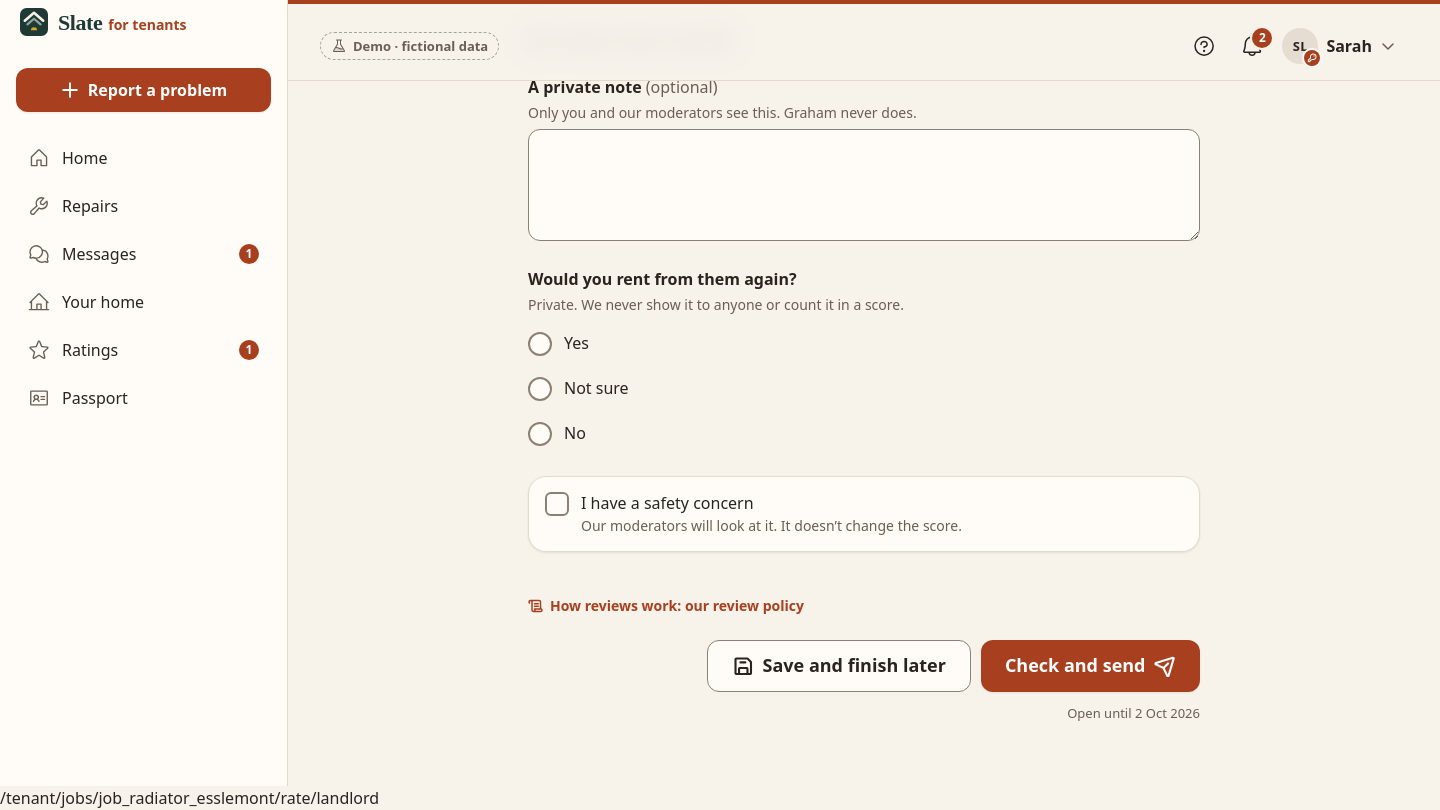
rating the landlord’s handling of a repair › explains the seal, asks the two repair questions and seals the answer
The image size is (1440, 810).
(page scrolled)
Click the button "Check and send" at (1090, 666), box top-left (981, 640), bottom-right (1200, 692)
(page scrolled)
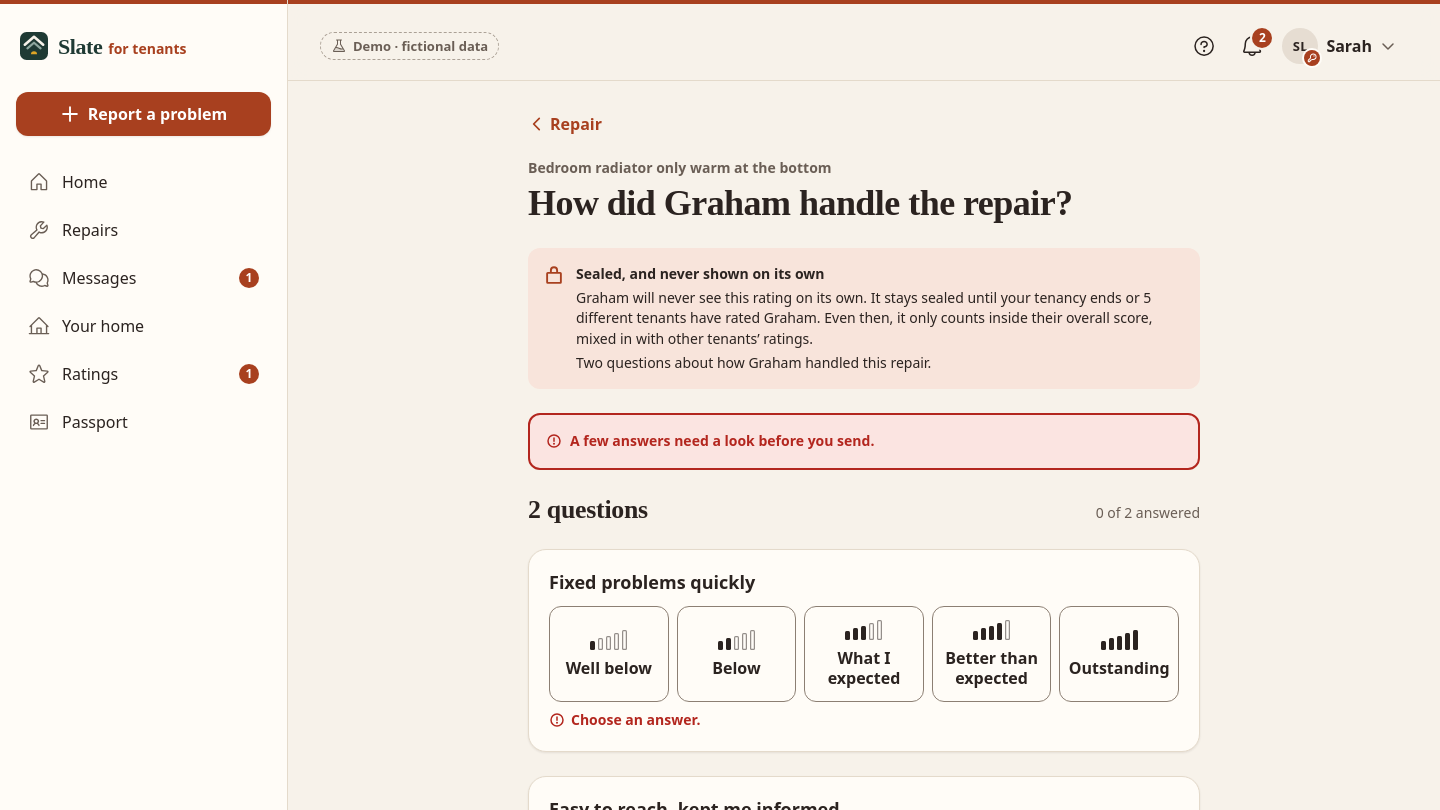
Expected: the message shows "A few answers need a look", top-left (570, 431), bottom-right (874, 450)
Expected: the text "Choose an answer." is shown 2 times
Click the radio button labelled "Better than expected" at (992, 654), box top-left (932, 606), bottom-right (1051, 702)
(page scrolled)
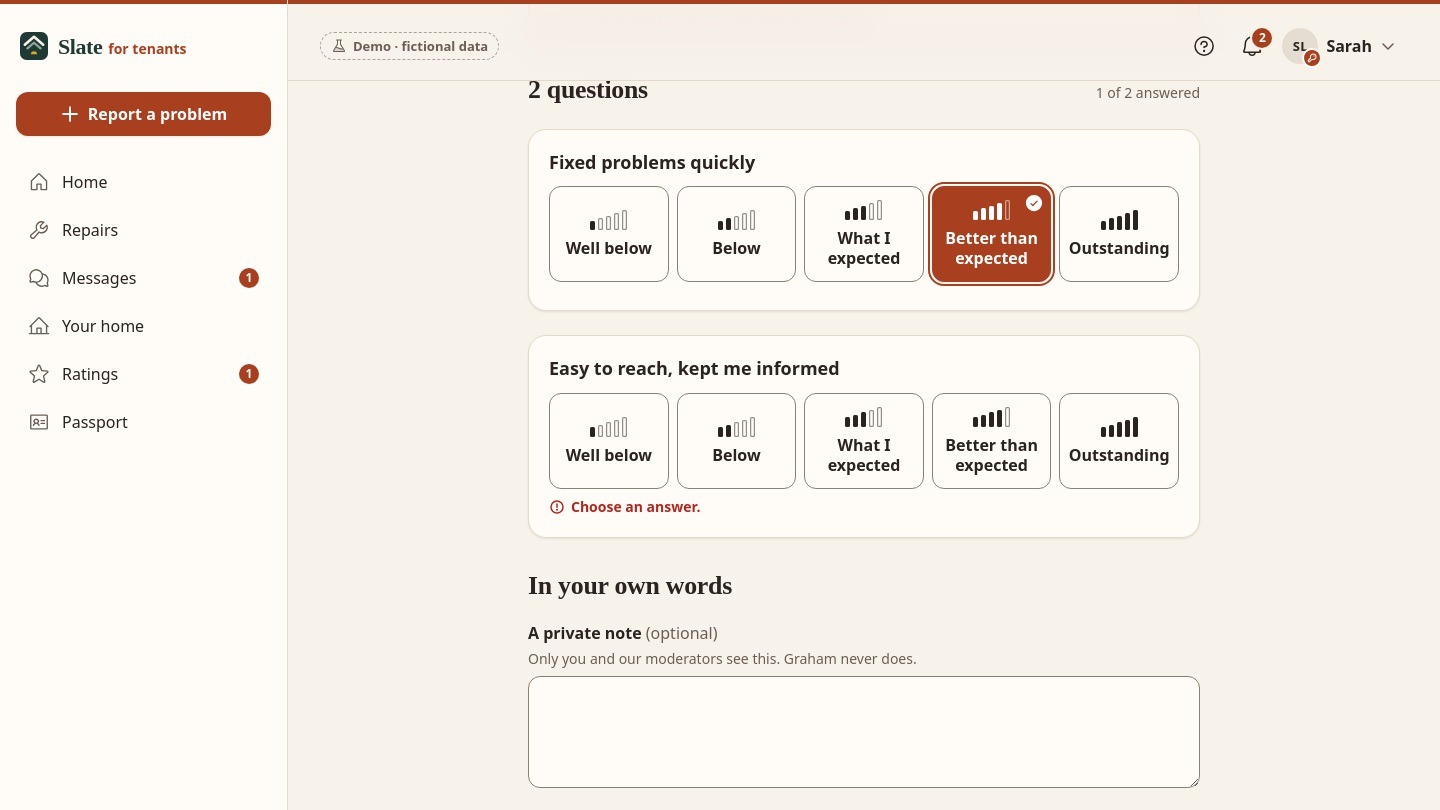
Click the radio button labelled "Outstanding" below "Easy to reach, kept me informed" at (1119, 441), box top-left (1059, 393), bottom-right (1179, 489)
(page scrolled)
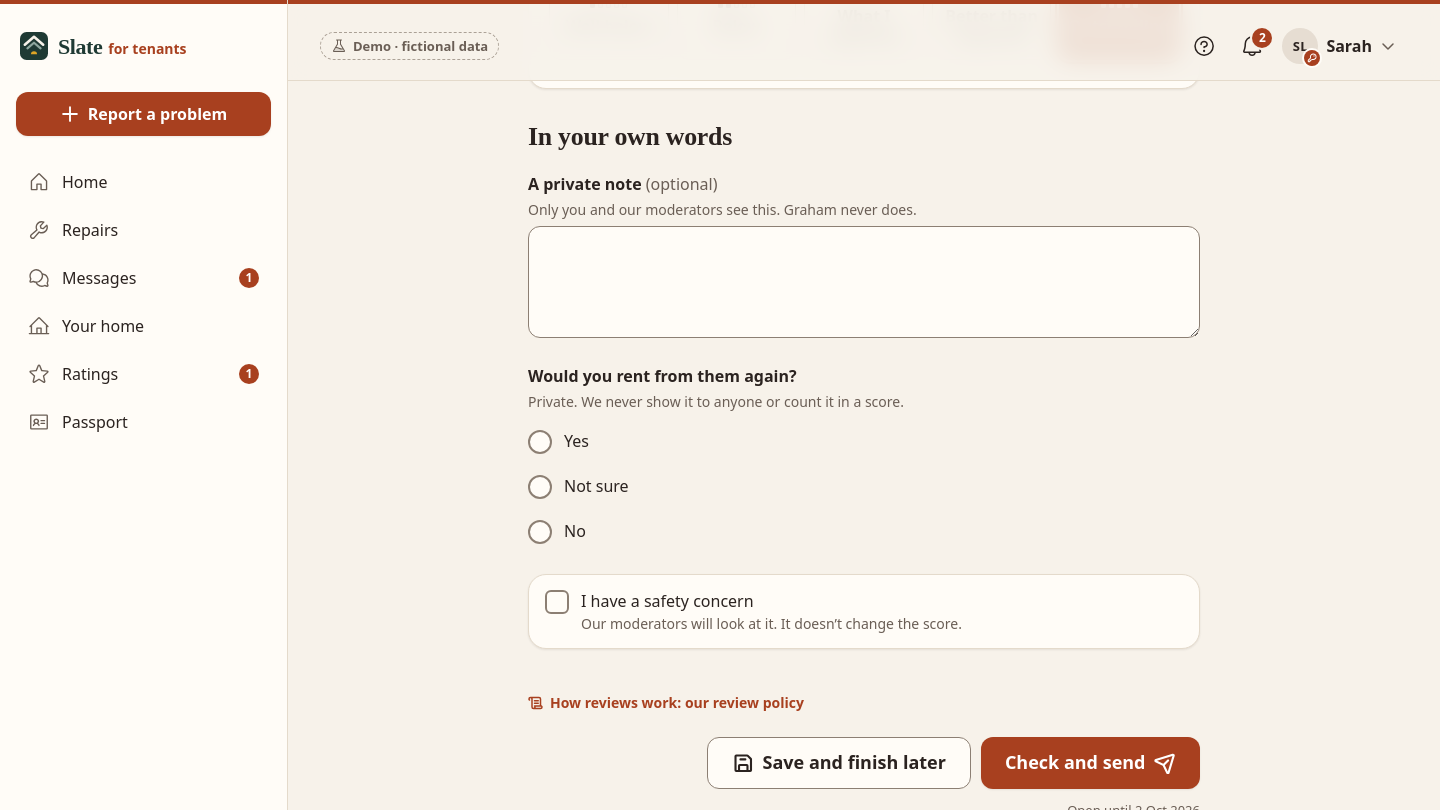
Click the radio button named "Yes" next to "Yes" at (540, 442), box top-left (528, 430), bottom-right (552, 454)
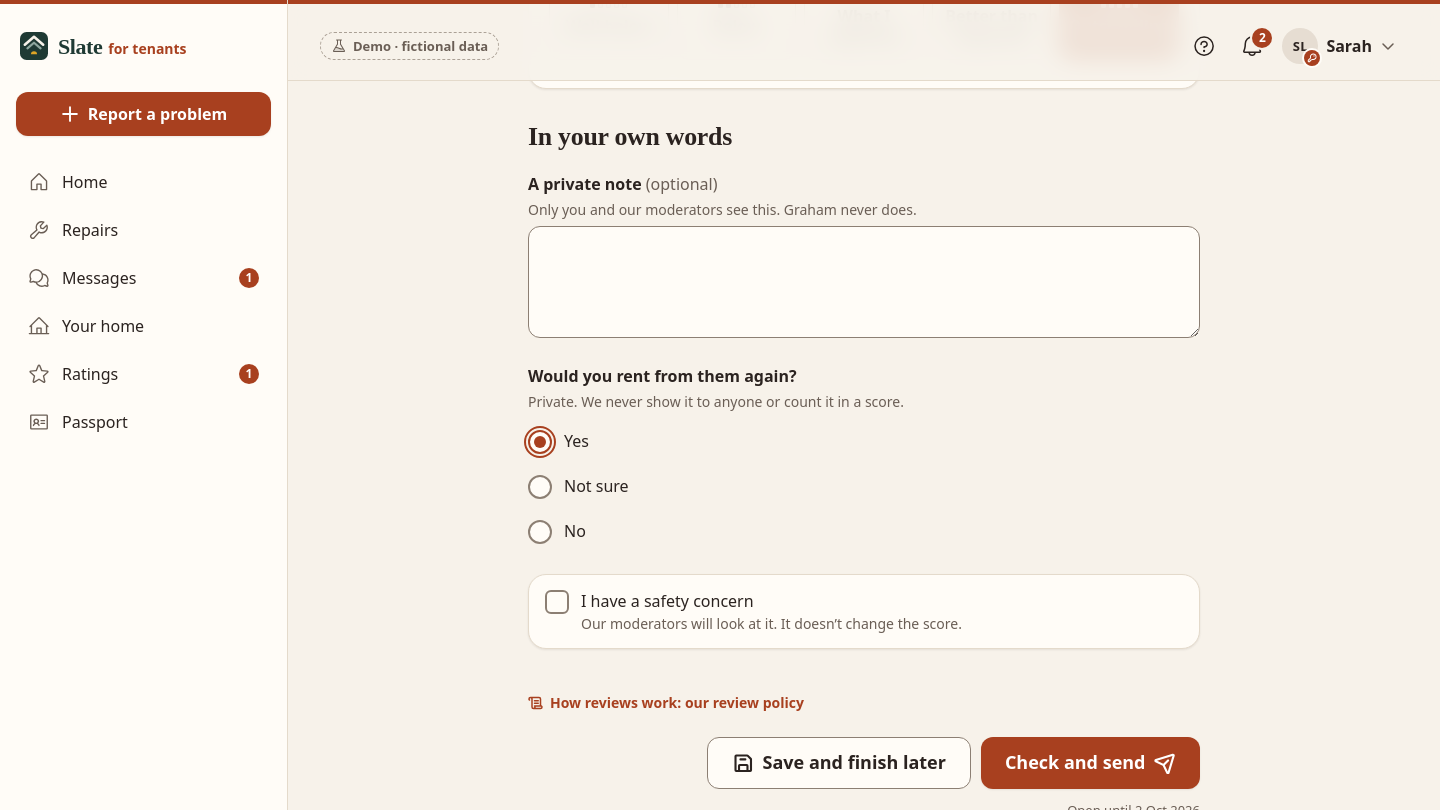
Click the button "Check and send" at (1090, 763), box top-left (981, 737), bottom-right (1200, 789)
(page scrolled)
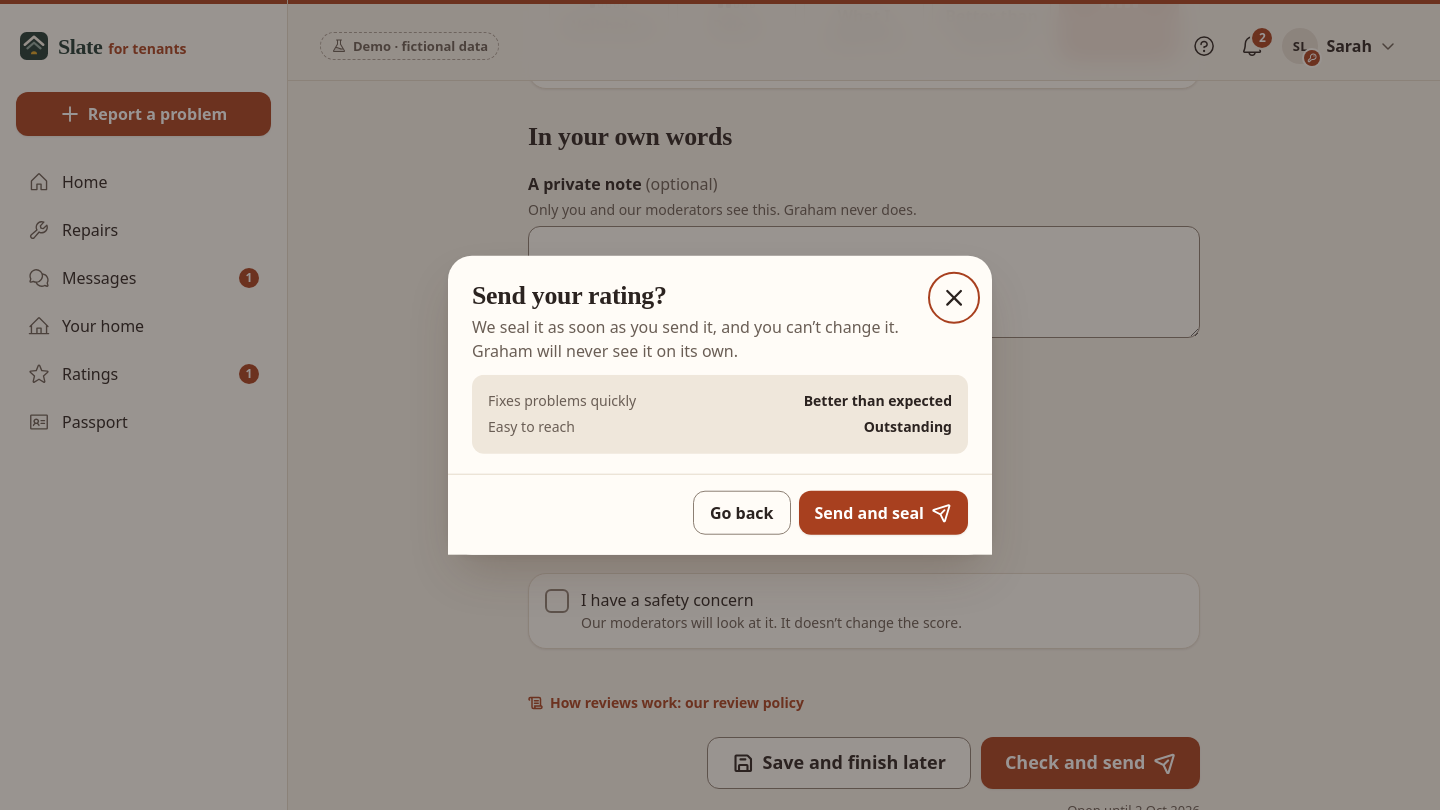
Click the button "Send and seal" at (883, 512), box top-left (798, 490), bottom-right (968, 534)
(page scrolled)
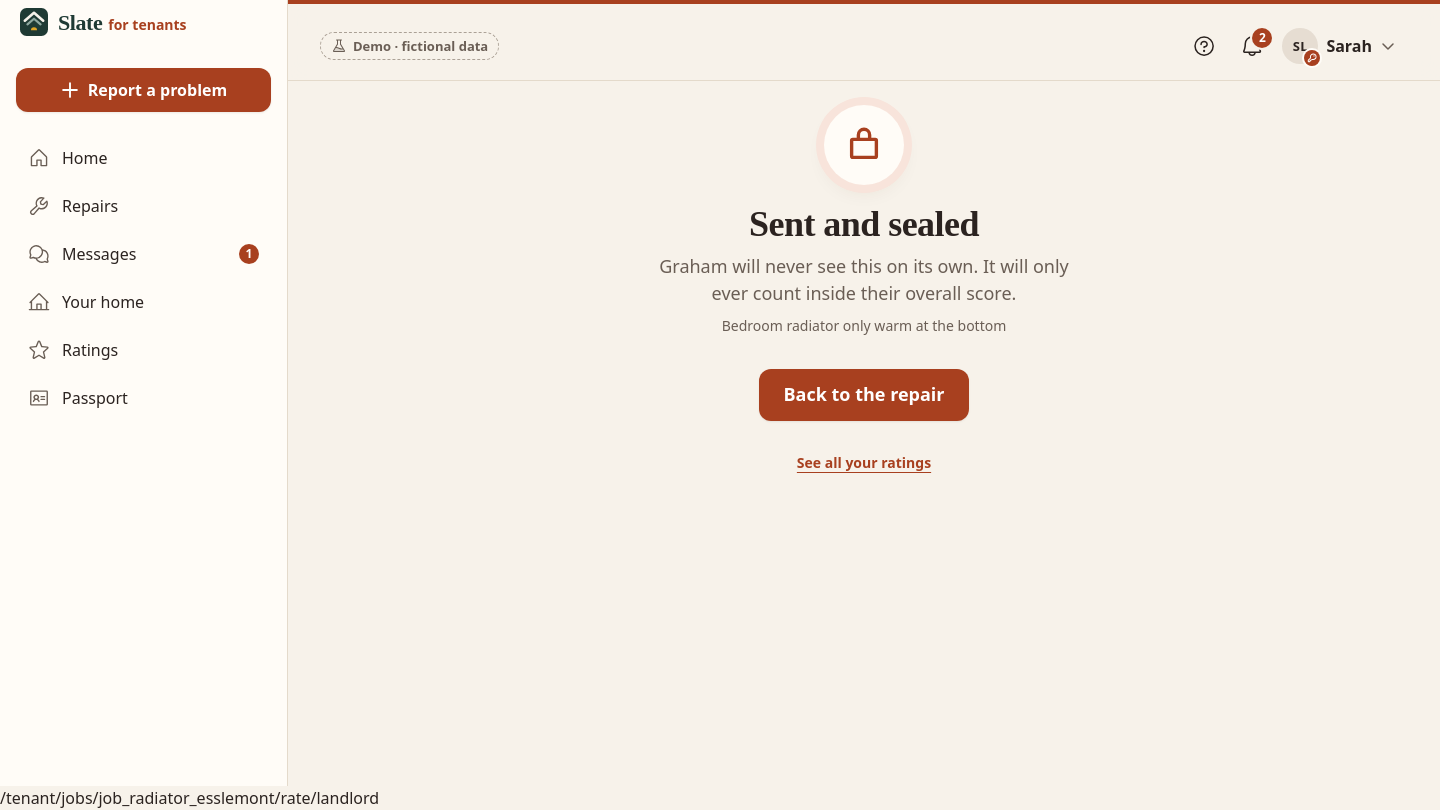
Expected: the heading "Sent and sealed" is shown, top-left (749, 204), bottom-right (979, 244)
